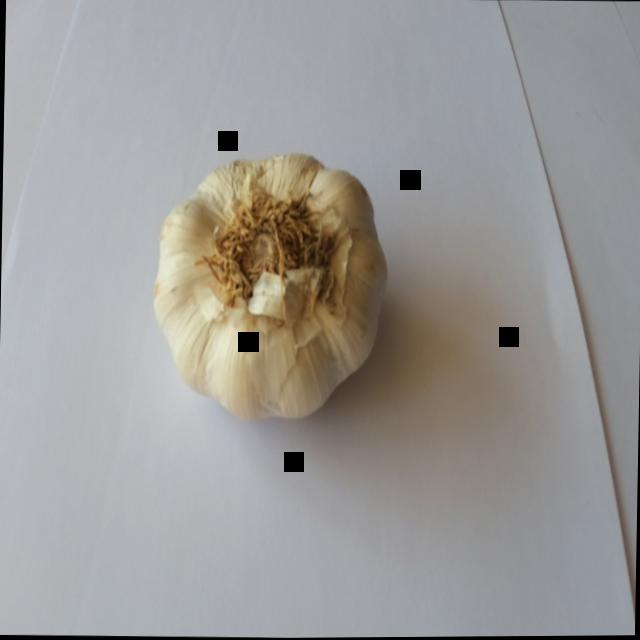Garlic: (106, 78, 455, 492)
